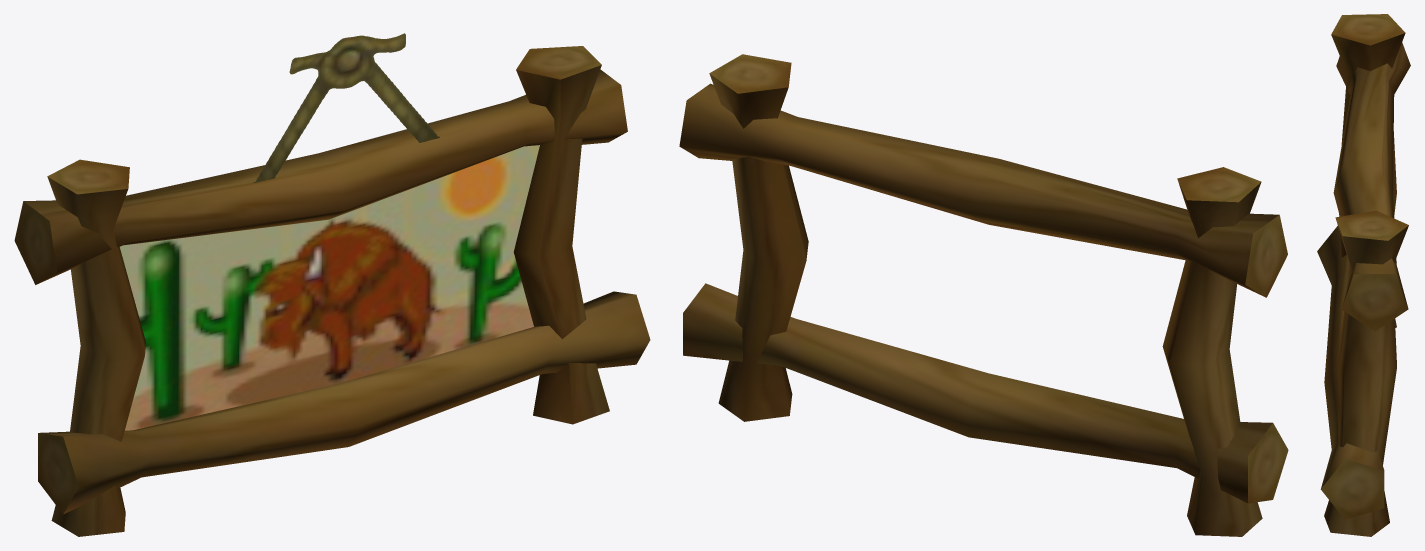
File: West_bisonPortrait.glb
The picture shows the model from 3 angles, left to right: view 1: azimuth 30°, elevation 25°; view 2: azimuth 150°, elevation 25°; view 3: azimuth 270°, elevation 25°; orthographic projection. The views are drawn at different scales.
Parts seen in each view (by area): view 1: PictureInsert, BottomFrame, BottomFrame1, LeftSide, RightSide, Hanger; view 2: BottomFrame1, BottomFrame, LeftSide, RightSide; view 3: BottomFrame1, LeftSide, BottomFrame, RightSide.
Boxes of the visible parts, x1=… form: PictureInsert: x1=120, y1=145, x2=539, y2=430; BottomFrame: x1=38, y1=291, x2=650, y2=514; BottomFrame1: x1=14, y1=69, x2=627, y2=284; LeftSide: x1=513, y1=46, x2=609, y2=424; RightSide: x1=47, y1=159, x2=145, y2=536; Hanger: x1=253, y1=33, x2=439, y2=182; BottomFrame1: x1=679, y1=83, x2=1287, y2=297; BottomFrame: x1=683, y1=283, x2=1288, y2=503; LeftSide: x1=709, y1=54, x2=808, y2=421; RightSide: x1=1162, y1=167, x2=1262, y2=536; BottomFrame1: x1=1333, y1=42, x2=1410, y2=331; LeftSide: x1=1324, y1=210, x2=1408, y2=536; BottomFrame: x1=1317, y1=226, x2=1384, y2=519; RightSide: x1=1331, y1=14, x2=1405, y2=327.
Bounding box in the file's own units: 3.83 × 2.68 × 0.6141.
Materials: 3 (3 with a texture image).
